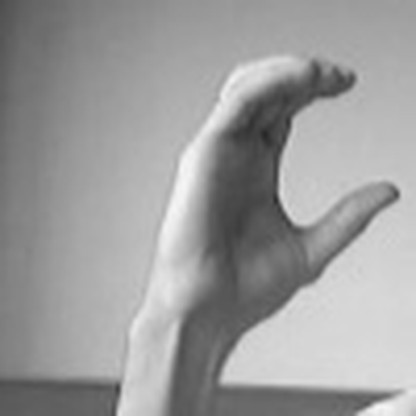c: (139, 45, 402, 338)
